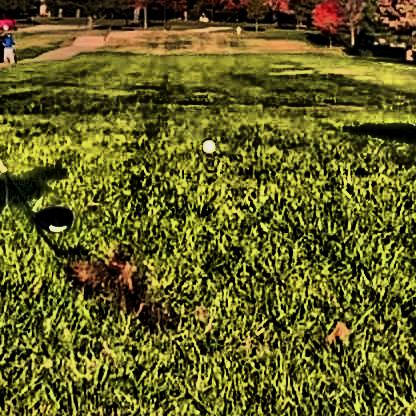golfball: (200, 137, 214, 151)
